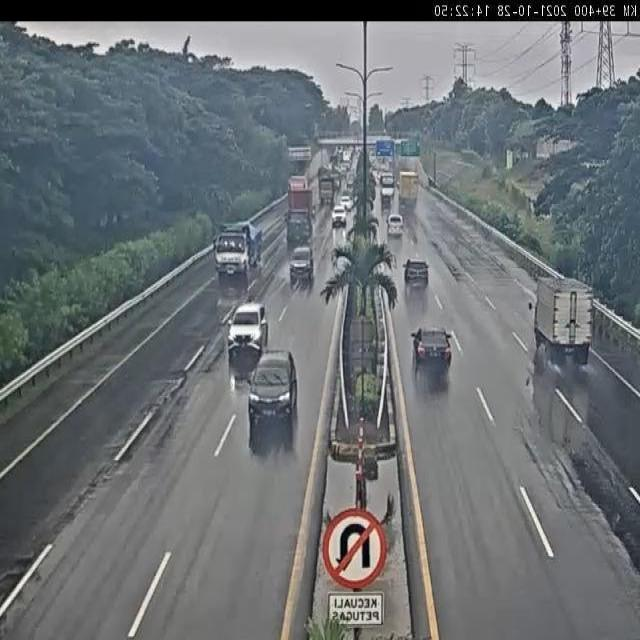Car: (247, 348, 298, 451), (412, 319, 462, 378), (227, 300, 270, 366), (288, 246, 314, 287), (403, 258, 430, 288), (387, 212, 404, 235), (332, 204, 346, 227), (380, 186, 394, 209), (339, 194, 353, 212), (381, 172, 394, 188), (337, 162, 349, 179), (346, 173, 355, 191), (372, 172, 380, 184)
Truck: (534, 264, 598, 376), (214, 218, 270, 276), (287, 177, 314, 248), (398, 170, 419, 208), (318, 175, 336, 208)
